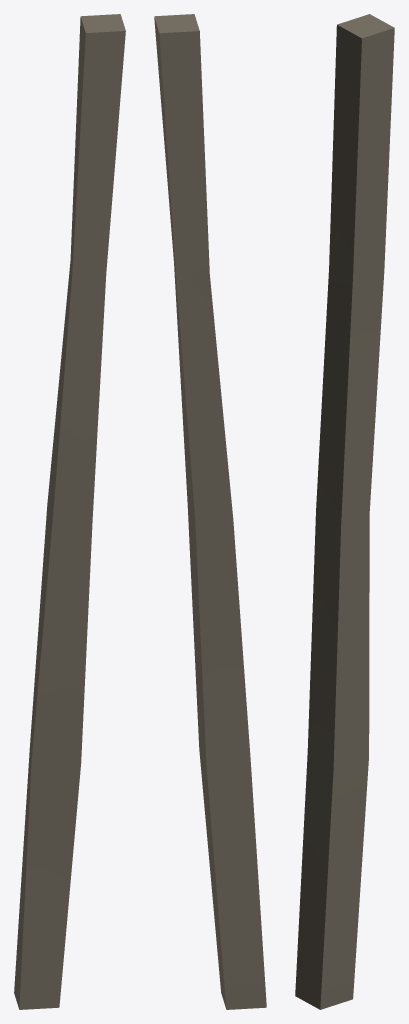
Rendered from Pillar_Wood.FBX.
3 views of the same model, side by side, from view 1: azimuth 30°, elevation 25°; view 2: azimuth 210°, elevation 25°; view 3: azimuth 330°, elevation 25° (orthographic). The views are drawn at different scales.
Parts seen in each view (by area): view 1: Pillar_Wood; view 2: Pillar_Wood; view 3: Pillar_Wood.
Part boxes in pixels (x1,y1,x2,y2): Pillar_Wood: (14,14,125,1009); Pillar_Wood: (154,14,266,1009); Pillar_Wood: (295,14,394,1009).
Bounding box in the file's own units: 4.45 × 41.6 × 3.04.
